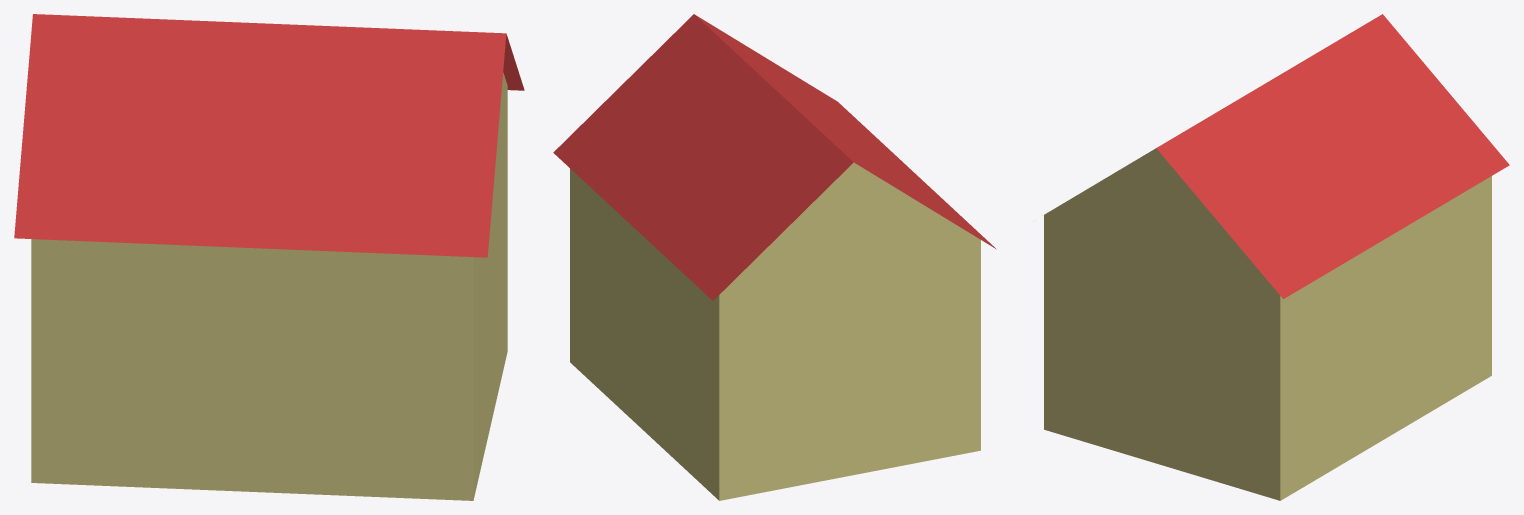
3 views of the same model, side by side, from view 1: azimuth 30°, elevation 25°; view 2: azimuth 150°, elevation 25°; view 3: azimuth 270°, elevation 25° (orthographic). The views are drawn at different scales.
Size of the model in its own units: 19.37 by 18.71 by 13.74.
